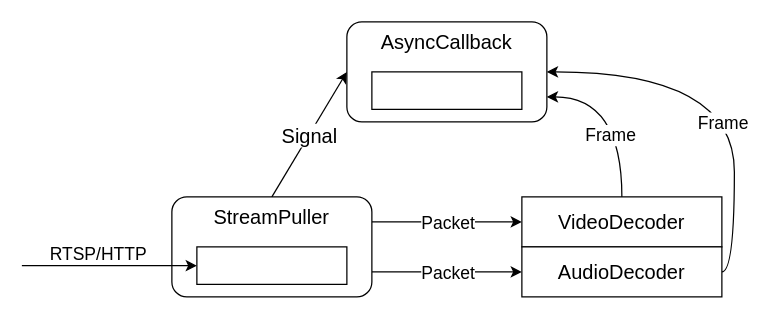
This 769x319 diagram has some shape labels left out. Each missing label, with the centre of its shape:
StreamSink: pixel 271 265
User Callback: pixel 446 90
